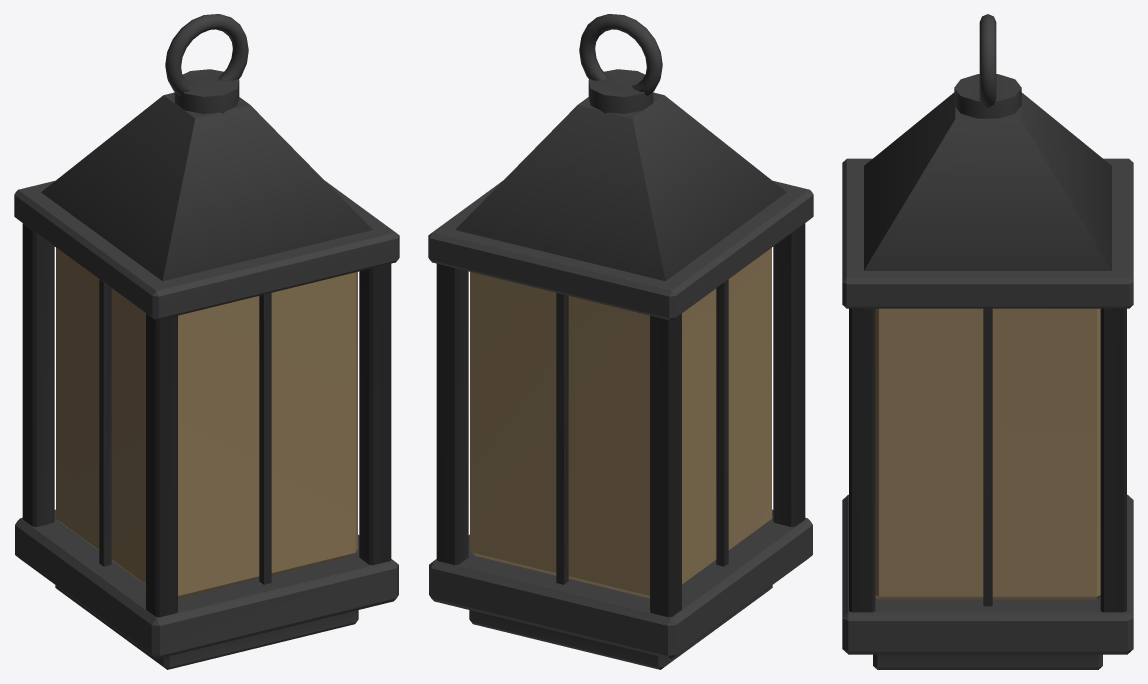
The model's file is lantern.glb.
3 views of the same model, side by side, from view 1: azimuth 30°, elevation 25°; view 2: azimuth 150°, elevation 25°; view 3: azimuth 270°, elevation 25° (orthographic). The views are drawn at different scales.
Visible parts, largest first — view 1: iron, glass; view 2: iron, glass; view 3: iron, glass.
Part boxes in pixels (bbox=[...]): iron: bbox=[14, 14, 399, 669]; glass: bbox=[56, 247, 357, 598]; iron: bbox=[428, 14, 813, 669]; glass: bbox=[470, 247, 771, 598]; iron: bbox=[842, 14, 1133, 669]; glass: bbox=[875, 308, 1100, 599].
Bounding box in the file's own units: 0.19 × 0.435 × 0.19.
